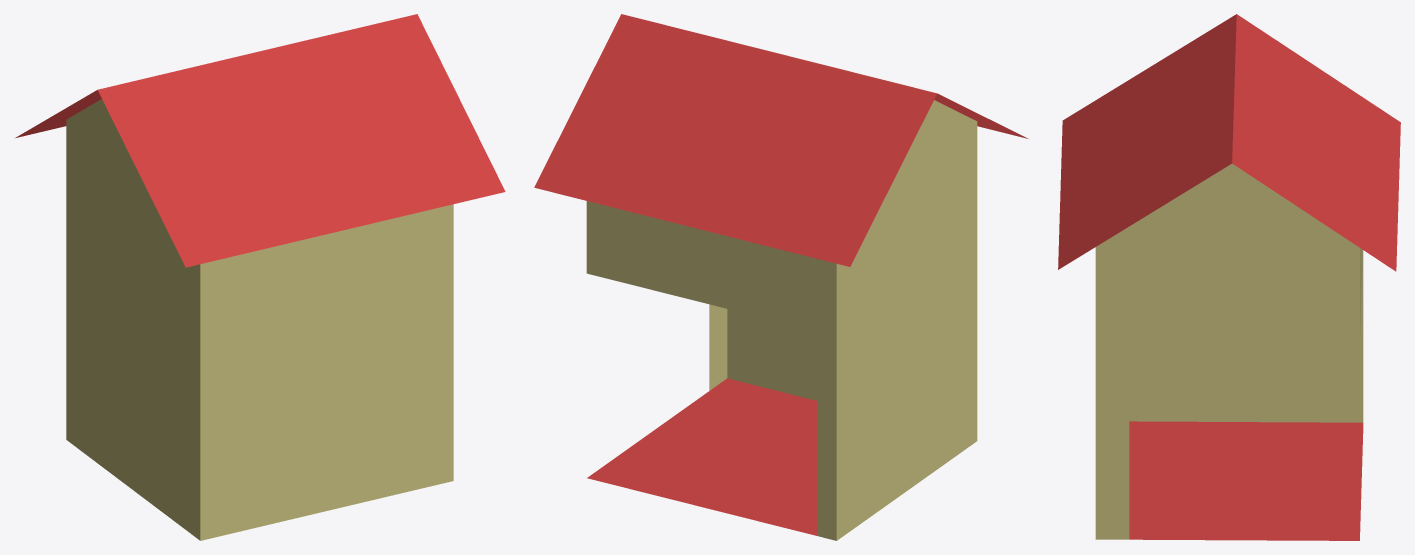
3 renders of one model, left to right at view 1: azimuth 30°, elevation 25°; view 2: azimuth 150°, elevation 25°; view 3: azimuth 270°, elevation 25°, orthographic. The views are drawn at different scales.
Bounding box in the file's own units: 9.69 × 9.27 × 11.71.
